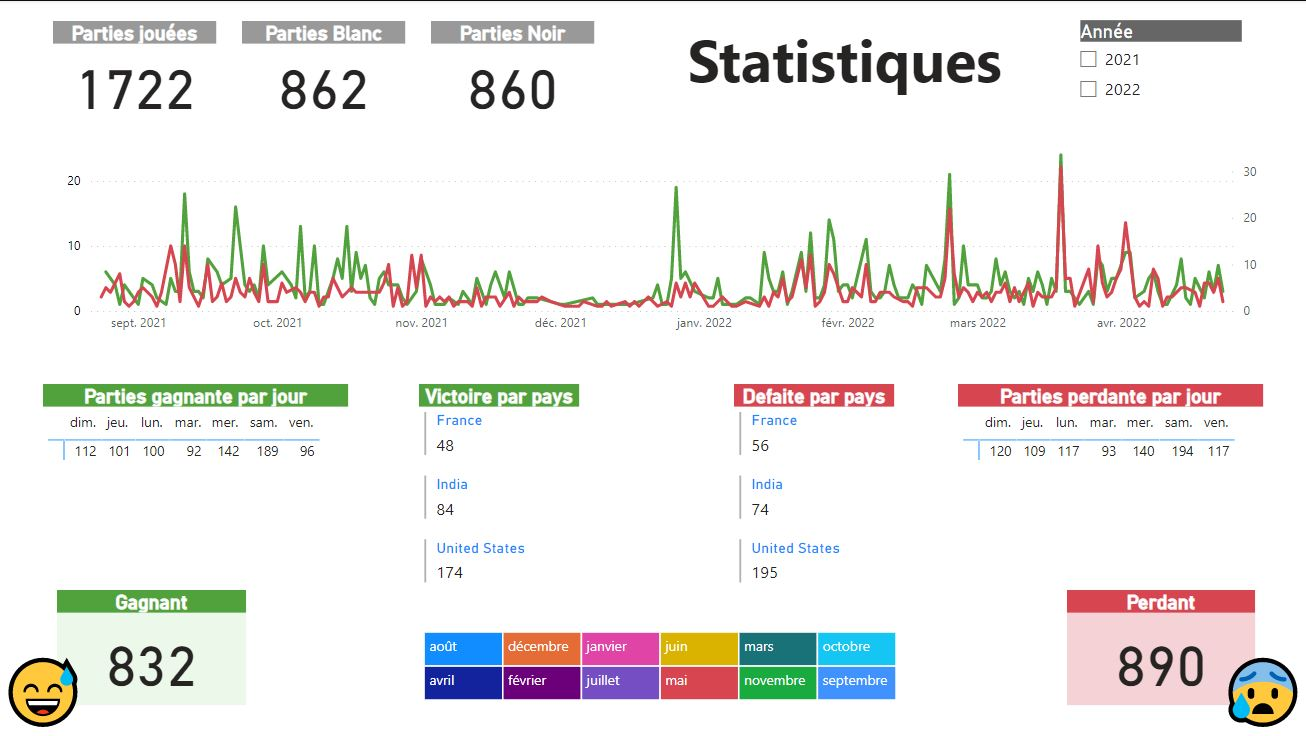

Layout of this report page (visuals, bound fields, positions):
{"tool":"powerbi","page":{"name":"Page 1","canvas":[1280,720],"ordinal":0},"visuals":[{"type":"card","title":"Parties jouées","fields":{"Values":["Mesures.nbrParties"]},"box":[56.4,20.4,158.5,97.3],"z":0},{"type":"card","title":"Parties Blanc","fields":{"Values":["Mesures.nbrPartiesBlanc"]},"box":[240.2,20.4,158.5,97.3],"z":1000},{"type":"card","title":"Parties Noir","fields":{"Values":["Mesures.nbrPartiesNoir"]},"box":[424.1,20.4,158.5,97.3],"z":2000},{"type":"slicer","fields":{"Values":["Dates.Annee"]},"box":[1042.7,14.6,182.9,103.1],"z":3000},{"type":"card","title":"Gagnant","fields":{"Values":["Mesures.nbPartieGagnante"]},"box":[60.3,573.9,183.8,111.9],"z":4000},{"type":"card","title":"Perdant","fields":{"Values":["Mesures.nbPartiePerdante"]},"box":[1042.7,573.9,182.9,111.9],"z":5000},{"type":"card","fields":{"Values":["Mesures.EMOJI_decu"]},"box":[1186.6,616.7,93.4,103.1],"z":6000},{"type":"card","fields":{"Values":["Mesures.EMOJI_ravi"]},"box":[0,616.7,93.4,103.1],"z":7000},{"type":"treemap","fields":{"Group":["Dates.Mois"],"Values":["Mesures.same"]},"box":[412.4,609.8,468.8,75.9],"z":8000},{"type":"lineChart","fields":{"Category":["games_results.Date"],"Y":["Mesures.nbPartieGagnante"],"Y2":["Mesures.nbPartiePerdante"]},"box":[60.3,130.3,1173,202.3],"z":9000},{"type":"pivotTable","title":"Parties gagnante par jour","fields":{"Columns":["Dates.Jour"],"Values":["Mesures.nbPartieGagnante"]},"box":[46.7,373.5,296.7,80.7],"z":9001},{"type":"pivotTable","title":"Parties perdante par jour","fields":{"Columns":["Dates.Jour"],"Values":["Mesures.nbPartiePerdante"]},"box":[936.7,373.5,296.7,80.7],"z":9002},{"type":"multiRowCard","title":"Defaite par pays","fields":{"Values":["games_results.paysAdversaire","Mesures.nbPartiePerdante"]},"box":[718.8,373.5,155.6,217.9],"z":9003},{"type":"multiRowCard","title":"Victoire par pays","fields":{"Values":["games_results.paysAdversaire","Mesures.nbPartieGagnante"]},"box":[412.4,373.5,155.6,217.9],"z":9004},{"type":"textbox","box":[620.5,14.6,411.4,97.3],"z":9005}]}

Visuals, with their boxes in screenshot pixels (x1, y1, x2, y2), scaled from the page's 1280x720 canvas onto the 1306x736 screenshot:
"Parties jouées" card: (58, 21, 219, 120)
"Parties Blanc" card: (245, 21, 407, 120)
"Parties Noir" card: (433, 21, 594, 120)
slicer - Dates.Annee: (1064, 15, 1250, 120)
"Gagnant" card: (62, 587, 249, 701)
"Perdant" card: (1064, 587, 1250, 701)
card - Mesures.EMOJI_decu: (1211, 630, 1305, 735)
card - Mesures.EMOJI_ravi: (0, 630, 95, 735)
treemap - Dates.Mois x Mesures.same: (421, 623, 899, 701)
lineChart - games_results.Date x Mesures.nbPartieGagnante: (62, 133, 1258, 340)
"Parties gagnante par jour" pivotTable: (48, 382, 350, 464)
"Parties perdante par jour" pivotTable: (956, 382, 1258, 464)
"Defaite par pays" multiRowCard: (733, 382, 892, 605)
"Victoire par pays" multiRowCard: (421, 382, 580, 605)
textbox: (633, 15, 1053, 114)
